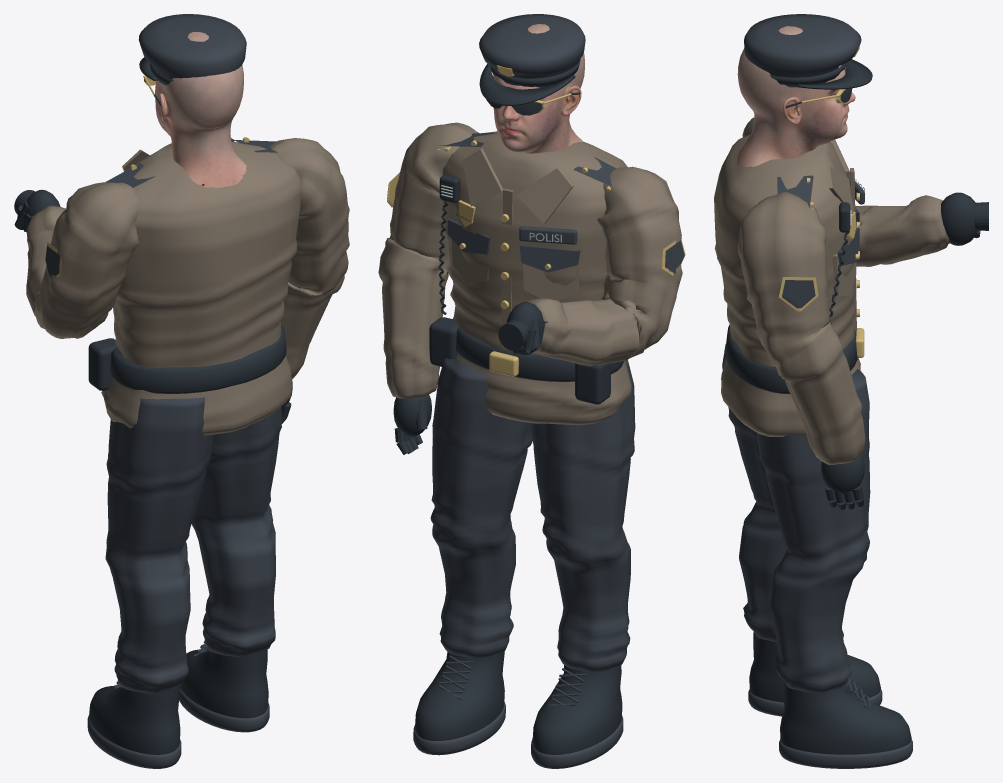
Rendered from ACT_TKPSentry.fbx.
3 renders of one model, left to right at view 1: azimuth 30°, elevation 25°; view 2: azimuth 150°, elevation 25°; view 3: azimuth 270°, elevation 25°, orthographic.
Parts seen in each view (by area): view 1: Tunic with shaped waist, Trouser pressed leg, Trouser pressed leg.001, Set-in sleeve, Set-in sleeve.001, Officer face and neck, Peaked service cap, Laced patrol boot, Laced patrol boot.001, Duty belt, Welt and tread, Welt and tread.001 (+2 smaller); view 2: Tunic with shaped waist, Trouser pressed leg.001, Trouser pressed leg, Set-in sleeve, Set-in sleeve.001, Laced patrol boot, Laced patrol boot.001, Peaked service cap, Officer face and neck, Duty belt, Folded collar, Cap brim (+16 smaller); view 3: Trouser pressed leg.001, Set-in sleeve.001, Tunic with shaped waist, Officer face and neck, Laced patrol boot.001, Trouser pressed leg, Peaked service cap, Set-in sleeve, Laced patrol boot, Welt and tread.001, Duty belt, Gloved palm (+8 smaller).
Boxes of the visible parts, x1=… form: Tunic with shaped waist: x1=101, y1=141, x2=301, y2=435; Trouser pressed leg: x1=105, y1=397, x2=213, y2=693; Trouser pressed leg.001: x1=191, y1=407, x2=281, y2=657; Set-in sleeve: x1=26, y1=182, x2=139, y2=338; Set-in sleeve.001: x1=270, y1=138, x2=349, y2=378; Officer face and neck: x1=155, y1=32, x2=246, y2=187; Peaked service cap: x1=138, y1=14, x2=246, y2=85; Laced patrol boot: x1=89, y1=686, x2=180, y2=754; Laced patrol boot.001: x1=180, y1=649, x2=268, y2=718; Duty belt: x1=110, y1=325, x2=286, y2=393; Welt and tread: x1=87, y1=714, x2=181, y2=768; Welt and tread.001: x1=179, y1=689, x2=269, y2=732; Tunic with shaped waist: x1=442, y1=131, x2=631, y2=425; Trouser pressed leg.001: x1=430, y1=358, x2=532, y2=658; Trouser pressed leg: x1=531, y1=359, x2=635, y2=672; Set-in sleeve: x1=526, y1=166, x2=682, y2=366; Set-in sleeve.001: x1=378, y1=122, x2=479, y2=398; Laced patrol boot: x1=532, y1=665, x2=622, y2=754; Laced patrol boot.001: x1=415, y1=651, x2=504, y2=740; Peaked service cap: x1=479, y1=14, x2=585, y2=87; Officer face and neck: x1=493, y1=24, x2=584, y2=153; Duty belt: x1=453, y1=317, x2=623, y2=381; Folded collar: x1=517, y1=167, x2=573, y2=223; Cap brim: x1=479, y1=64, x2=575, y2=105; Trouser pressed leg.001: x1=757, y1=369, x2=870, y2=692; Set-in sleeve.001: x1=737, y1=192, x2=865, y2=465; Tunic with shaped waist: x1=714, y1=134, x2=860, y2=436; Officer face and neck: x1=737, y1=26, x2=855, y2=166; Laced patrol boot.001: x1=780, y1=682, x2=911, y2=754; Trouser pressed leg: x1=722, y1=344, x2=786, y2=642; Peaked service cap: x1=744, y1=14, x2=861, y2=87; Set-in sleeve: x1=742, y1=117, x2=949, y2=266; Laced patrol boot: x1=749, y1=631, x2=880, y2=702; Welt and tread.001: x1=779, y1=739, x2=912, y2=768; Duty belt: x1=725, y1=324, x2=857, y2=394; Gloved palm: x1=941, y1=192, x2=977, y2=245.
Bounding box in the file's own units: 102 × 234 × 83.3.
Materials: 7 (1 with a texture image).
